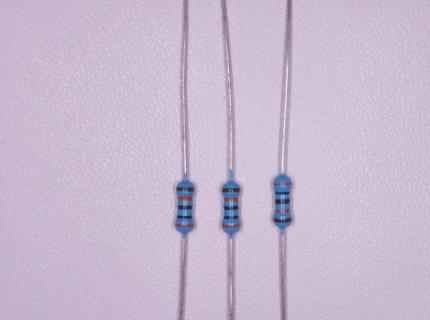Black band: (275, 199, 290, 205), (178, 205, 193, 210), (177, 215, 193, 219), (224, 216, 239, 220), (224, 206, 239, 210), (275, 191, 290, 195)
Brown band: (222, 187, 241, 193), (273, 217, 292, 223), (176, 187, 195, 191)
Orange band: (177, 196, 193, 201), (222, 224, 241, 228), (273, 182, 292, 186), (224, 197, 238, 202), (275, 209, 291, 213), (175, 224, 194, 227)
